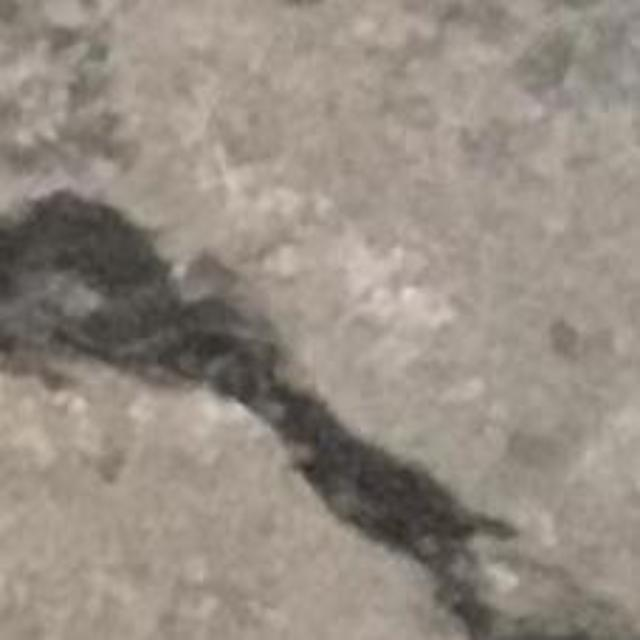crack: (0, 189, 639, 639)
